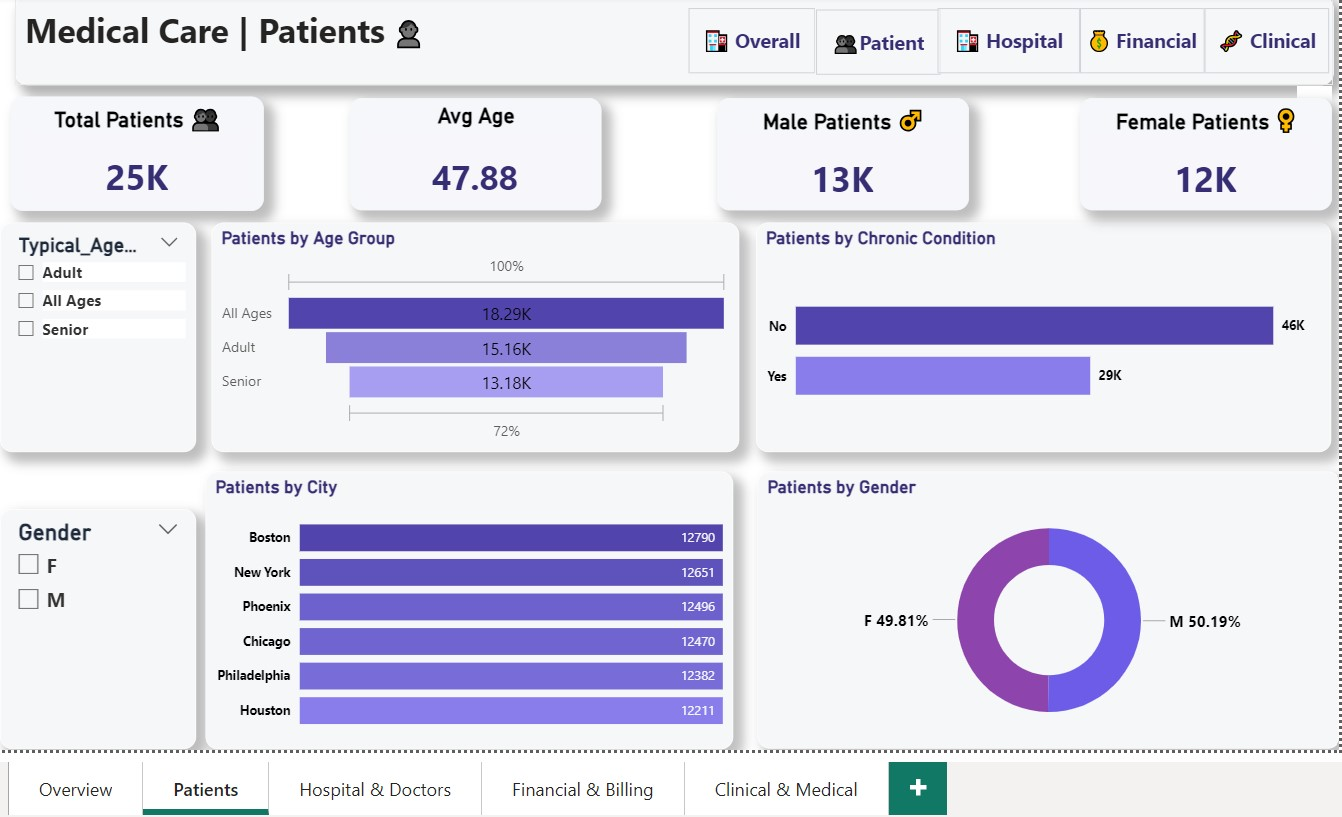

What the dashboard file says about the page in this screenshot:
{"tool":"powerbi","page":{"name":"Patients","canvas":[1280,720],"ordinal":1},"visuals":[{"type":"textbox","box":[14.3,0,1259,85],"z":0},{"type":"cardVisual","title":"Total Patients 👥","fields":{"Data":["Count(Dim_Patient.Patient_ID)"]},"box":[10.6,95.4,242.3,109],"z":1000},{"type":"cardVisual","title":"Male Patients ♂️","fields":{"Data":["Table.Male Patients"]},"box":[684.4,96.9,240.8,107.5],"z":2000},{"type":"cardVisual","title":"Avg Age","fields":{"Data":["Avg(Dim_Patient.Age)"]},"box":[333.1,96.9,240.8,107.5],"z":3000},{"type":"slicer","fields":{"Values":["Dim_Condition.Typical_Age_Group"]},"box":[0,216.3,187.1,219.6],"z":4000},{"type":"slicer","fields":{"Values":["Dim_Patient.Gender"]},"box":[0,489.6,187.1,229.3],"z":5000},{"type":"funnel","title":"Patients by Age Group","fields":{"Category":["Dim_Condition.Typical_Age_Group"],"Y":["Count(Fact_Encounter.Patient_ID)"]},"box":[201.7,216.3,504.2,219.6],"z":10000},{"type":"clusteredBarChart","title":"Patients by Chronic Condition","fields":{"Y":["CountNonNull(Fact_Encounter.Patient_ID)"],"Category":["Dim_Patient.Chronic Condition Status"]},"box":[722.3,216.5,549.7,219.6],"z":11000},{"type":"clusteredBarChart","title":"Patients by City","fields":{"Category":["Dim_Patient.City"],"Y":["CountNonNull(Fact_Encounter.Patient_ID)"]},"box":[196.8,453.8,504.2,265.1],"z":12000},{"type":"donutChart","title":"Patients by Gender","fields":{"Y":["CountNonNull(Dim_Patient.Patient_ID)"],"Category":["Dim_Patient.Gender"]},"box":[722.9,454,556.9,264.5],"z":13000},{"type":"cardVisual","title":"Female Patients ♀️","fields":{"Data":["Table.Female Patients"]},"box":[1031.2,97.6,240.7,107.4],"z":14000},{"type":"actionButton","title":"🏠 Executive","box":[657.6,11.3,120.9,62.4],"z":14001},{"type":"actionButton","title":"🏠 Executive","box":[778.6,13.2,119.1,62.4],"z":14002},{"type":"actionButton","title":"🏠 Executive","box":[895.8,11.3,136.1,62.4],"z":14003},{"type":"actionButton","title":"🏠 Executive","box":[1031.8,11.3,119.1,62.4],"z":14004},{"type":"actionButton","title":"🏠 Executive","box":[1150.9,11.3,119.1,62.4],"z":14005}]}

Visuals, with their boxes on the page's 1280x720 design canvas (x1, y1, x2, y2). These are canvas units, not pixel positions in the 1342x817 screenshot, which may show the page scaled, cropped or inside an application window:
textbox: x1=14, y1=0, x2=1273, y2=85
"Total Patients 👥" cardVisual: x1=11, y1=95, x2=253, y2=204
"Male Patients ♂️" cardVisual: x1=684, y1=97, x2=925, y2=204
"Avg Age" cardVisual: x1=333, y1=97, x2=574, y2=204
slicer - Dim_Condition.Typical_Age_Group: x1=0, y1=216, x2=187, y2=436
slicer - Dim_Patient.Gender: x1=0, y1=490, x2=187, y2=719
"Patients by Age Group" funnel: x1=202, y1=216, x2=706, y2=436
"Patients by Chronic Condition" clusteredBarChart: x1=722, y1=216, x2=1272, y2=436
"Patients by City" clusteredBarChart: x1=197, y1=454, x2=701, y2=719
"Patients by Gender" donutChart: x1=723, y1=454, x2=1280, y2=718
"Female Patients ♀️" cardVisual: x1=1031, y1=98, x2=1272, y2=205
"🏠 Executive" actionButton: x1=658, y1=11, x2=778, y2=74
"🏠 Executive" actionButton: x1=779, y1=13, x2=898, y2=76
"🏠 Executive" actionButton: x1=896, y1=11, x2=1032, y2=74
"🏠 Executive" actionButton: x1=1032, y1=11, x2=1151, y2=74
"🏠 Executive" actionButton: x1=1151, y1=11, x2=1270, y2=74
